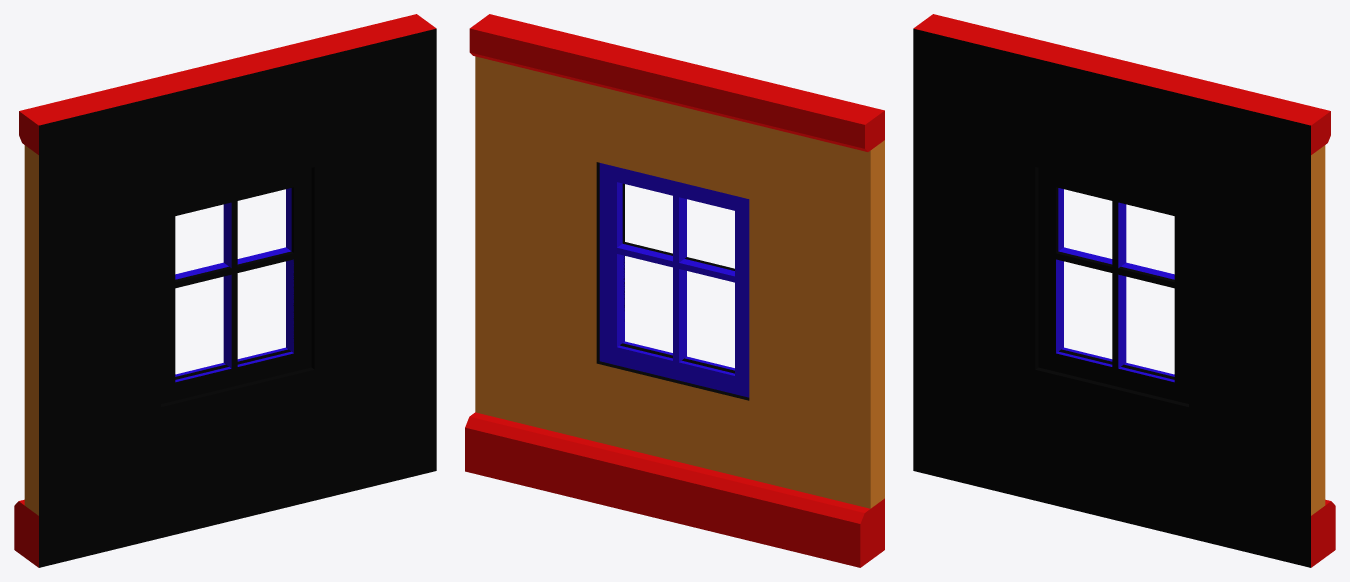
Rendered from Wall_Window_1.fbx.
3 renders of one model, left to right at view 1: azimuth 30°, elevation 25°; view 2: azimuth 150°, elevation 25°; view 3: azimuth 330°, elevation 25°, orthographic.
Parts seen in each view (by area): view 1: Cube.021; view 2: Cube.021; view 3: Cube.021.
Part boxes in pixels (box(x1,y1,x2,y2)): Cube.021: box(14, 14, 436, 567); Cube.021: box(465, 14, 884, 567); Cube.021: box(913, 14, 1335, 567).
Bounding box in the file's own units: 4 × 0.4284 × 4.25.
